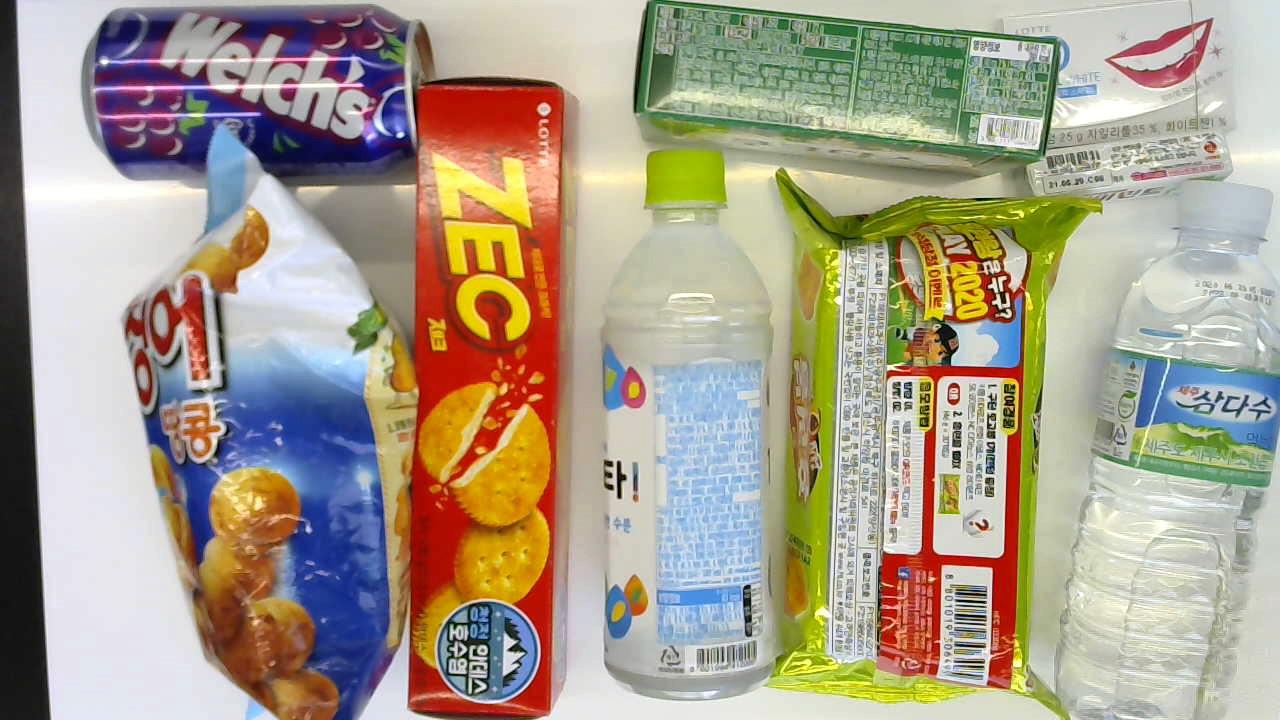ID_gum: (997, 0, 1245, 148)
couque_coffee: (628, 1, 1056, 168)
homerunball: (780, 175, 1051, 716)
samdasu: (1054, 186, 1270, 719)
spearmint: (1021, 138, 1233, 206)
squid_peanut: (113, 129, 418, 718)
toreta: (600, 147, 774, 701)
welchs: (74, 0, 428, 182)
zec: (407, 76, 576, 720)
